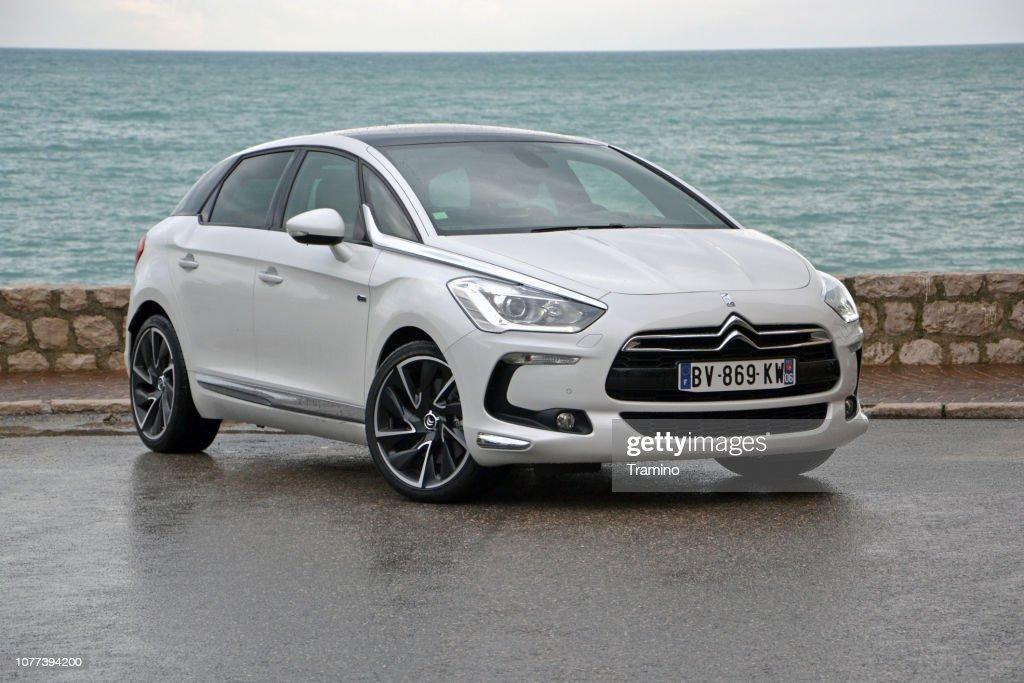Citroen: (705, 302, 772, 360)
